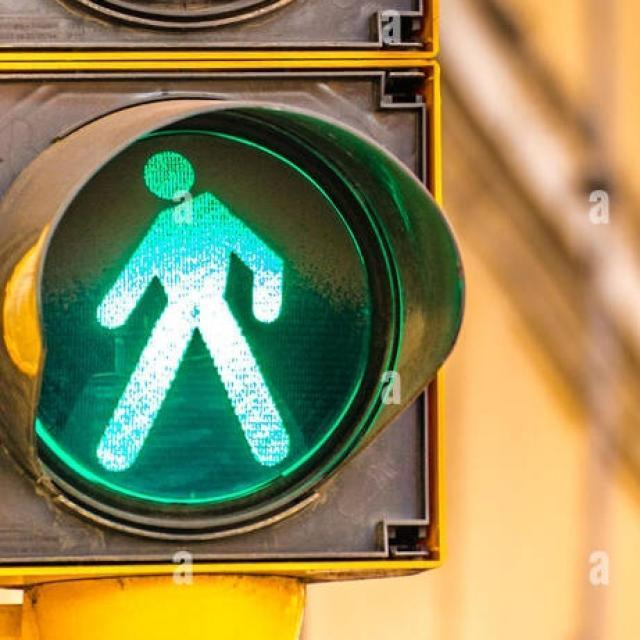geen-crossing: (102, 142, 294, 482)
